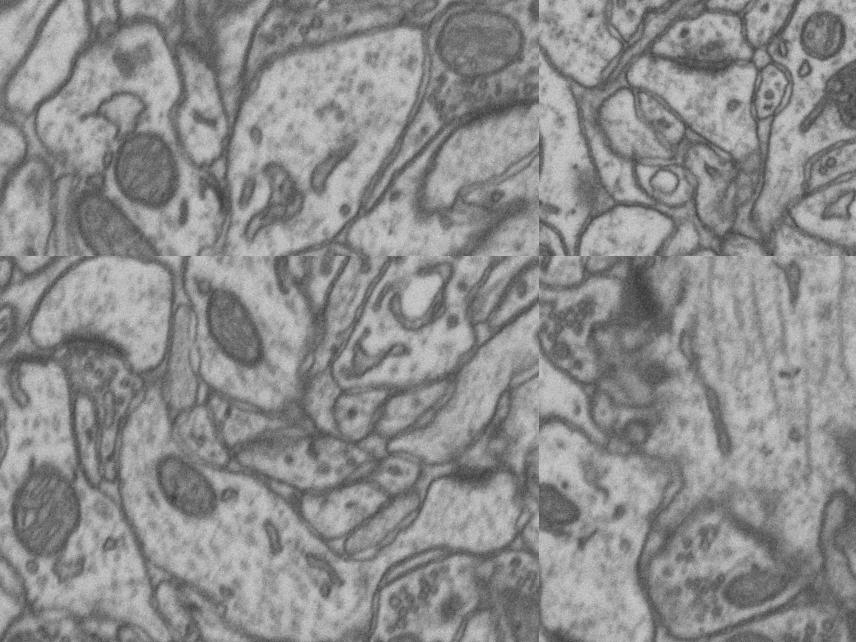mitochondria: (0, 447, 91, 569), (59, 185, 200, 256), (188, 278, 280, 382), (427, 0, 533, 86), (100, 120, 193, 217), (702, 544, 806, 622), (136, 437, 224, 522), (777, 0, 856, 66), (677, 611, 798, 642), (539, 473, 596, 537), (484, 580, 539, 642), (367, 621, 447, 642), (612, 0, 683, 23), (0, 615, 59, 642)
